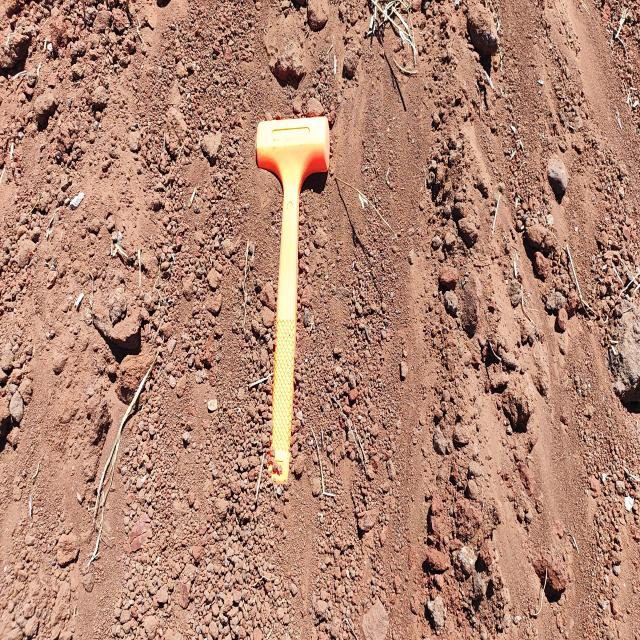Orange_hammer: (254, 114, 330, 489)
